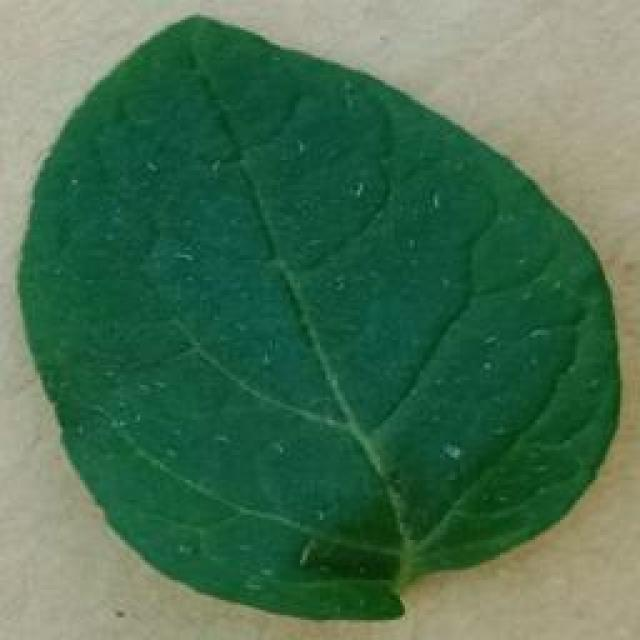Potato_Healthy: (19, 13, 616, 620)
